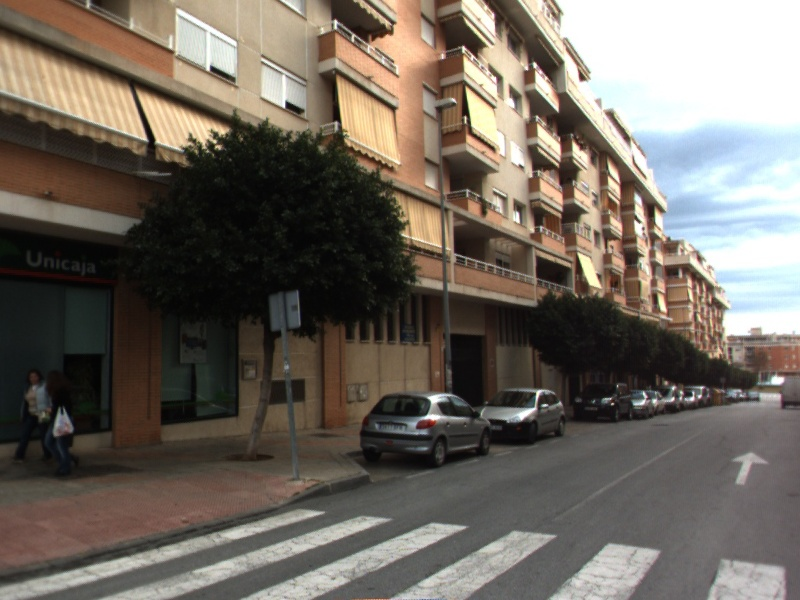STRAIGHT: (729, 449, 771, 487)
